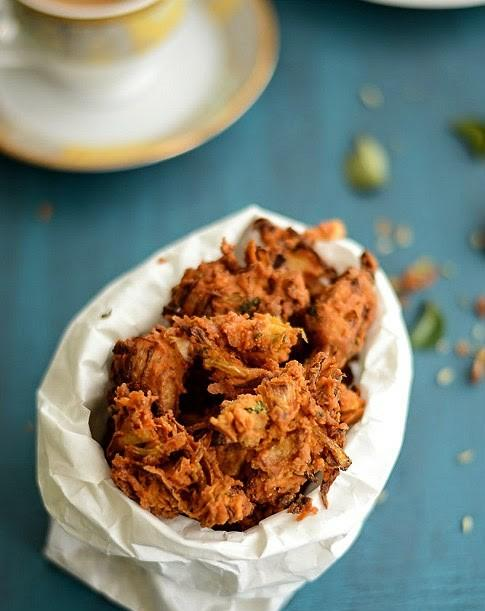OnionPakoda: (101, 215, 381, 523)
